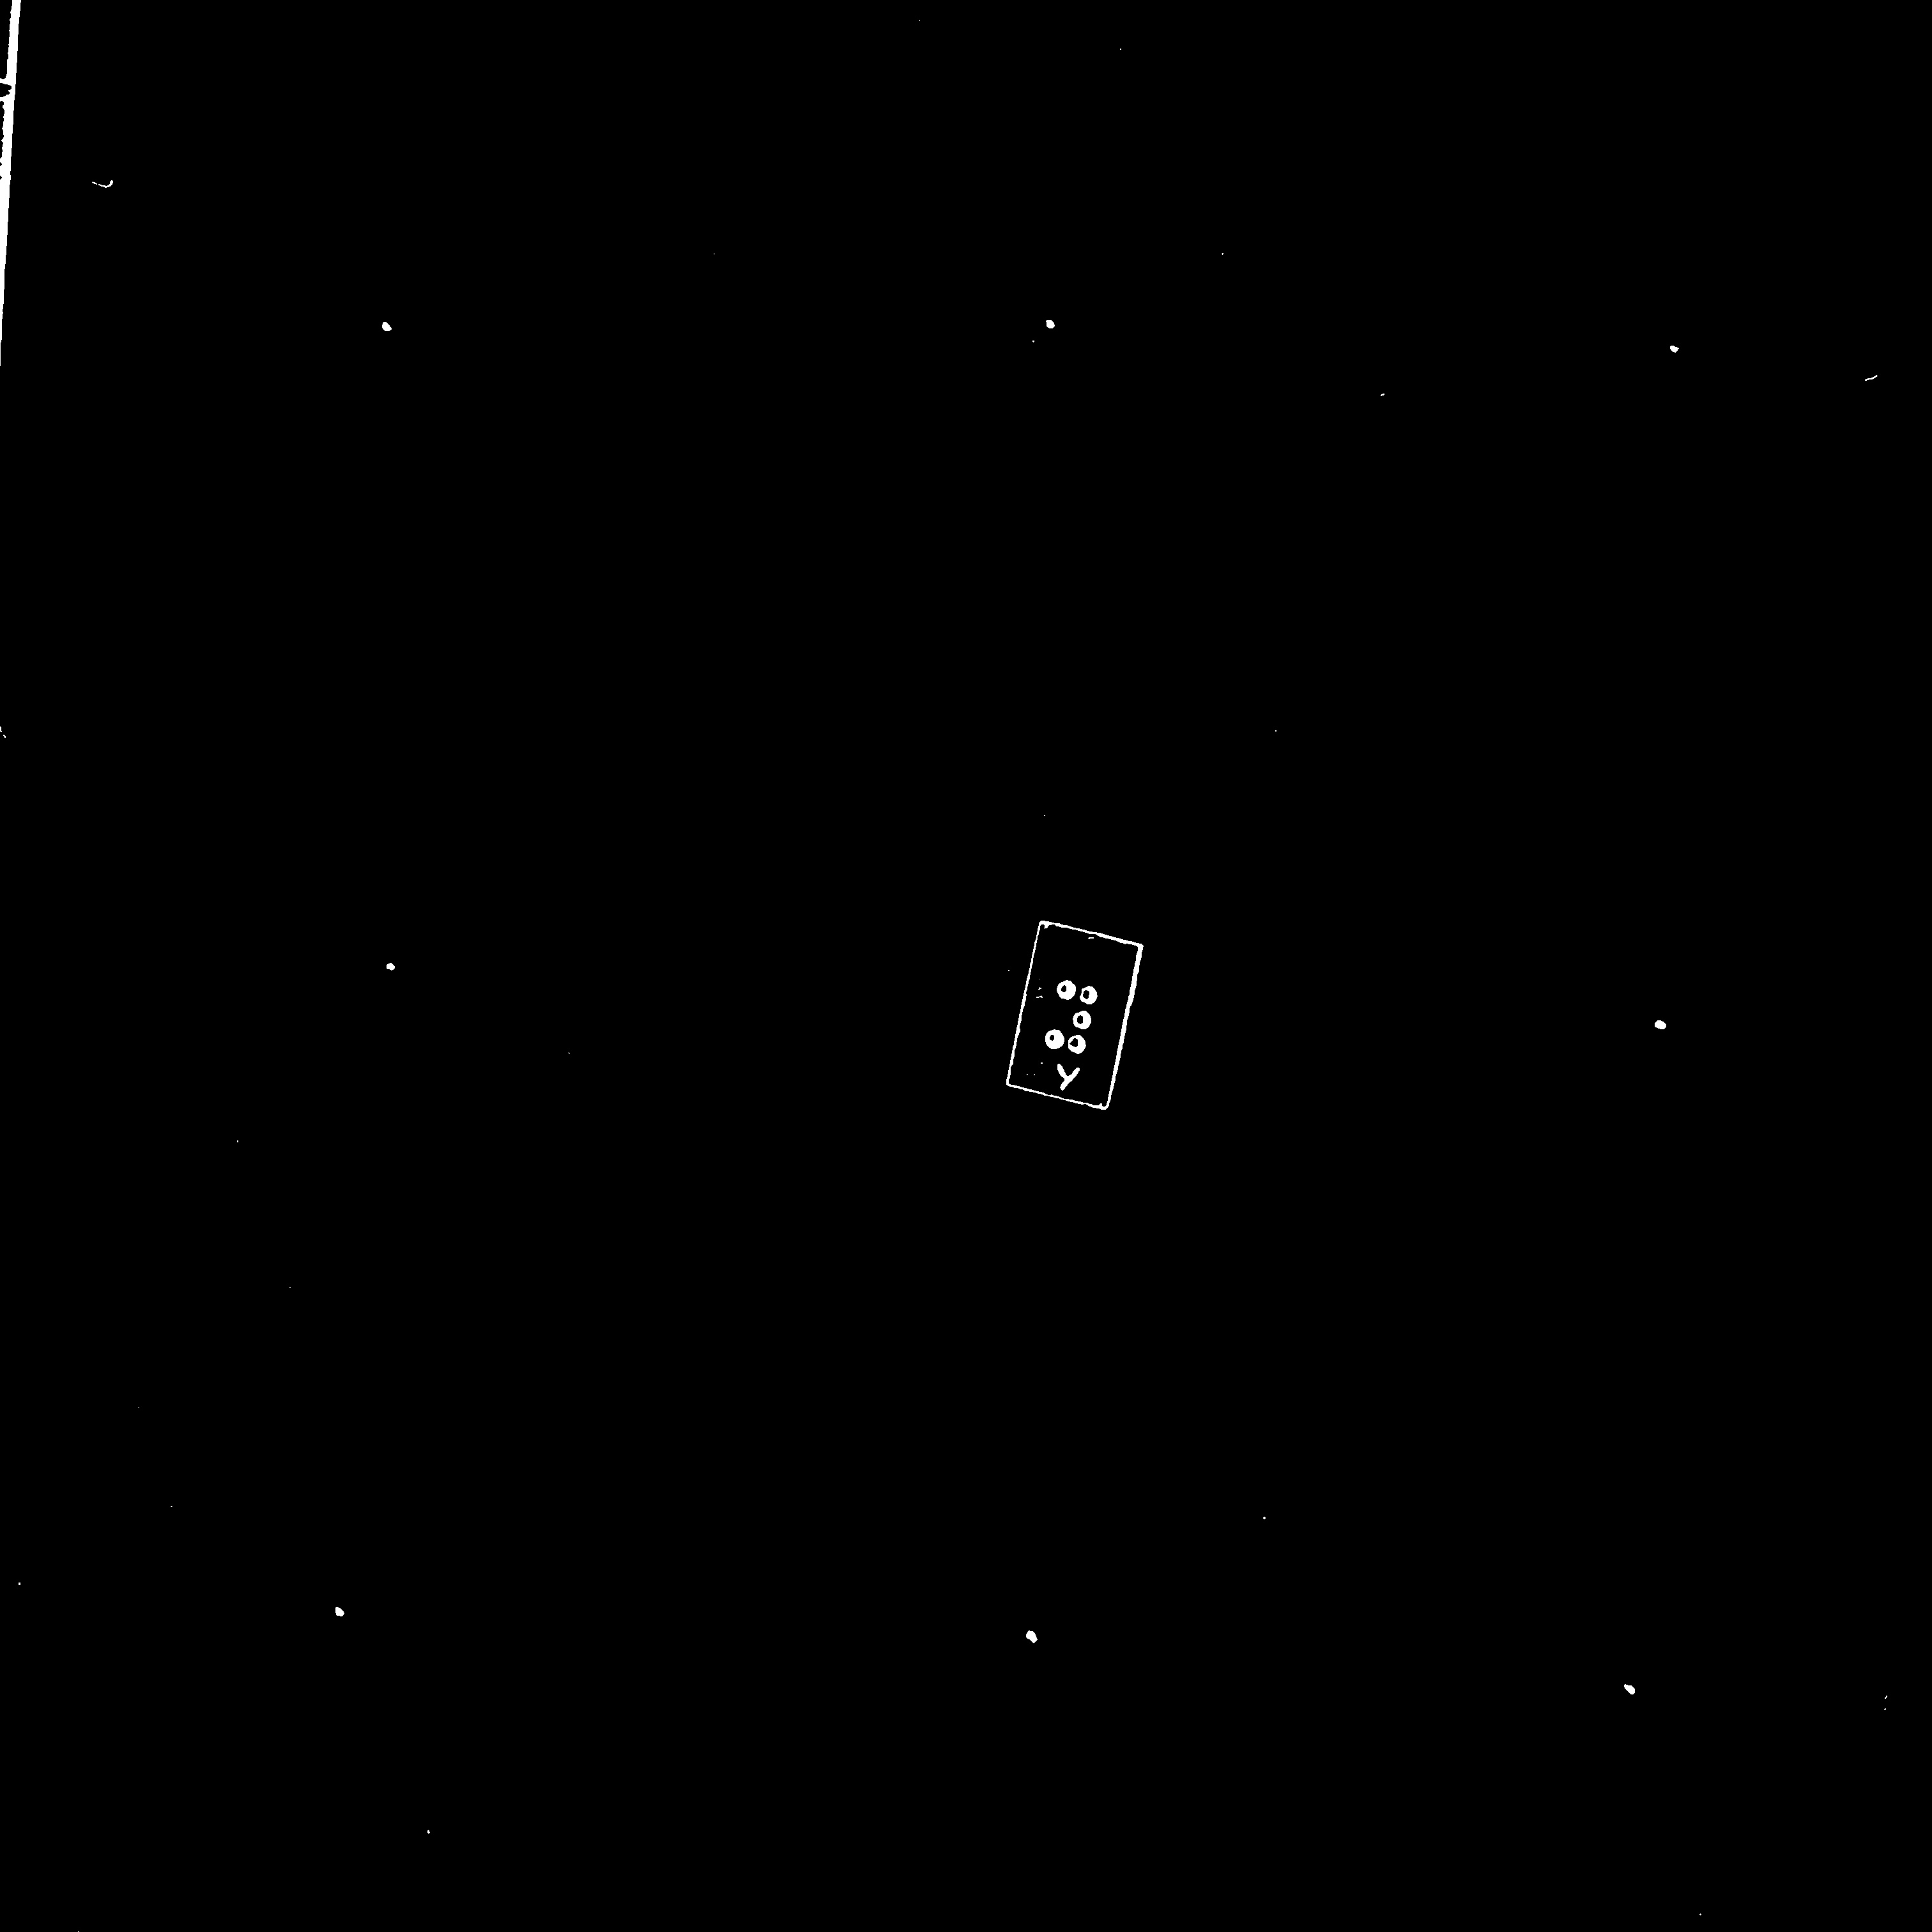y: (1043, 971, 1102, 1064)
